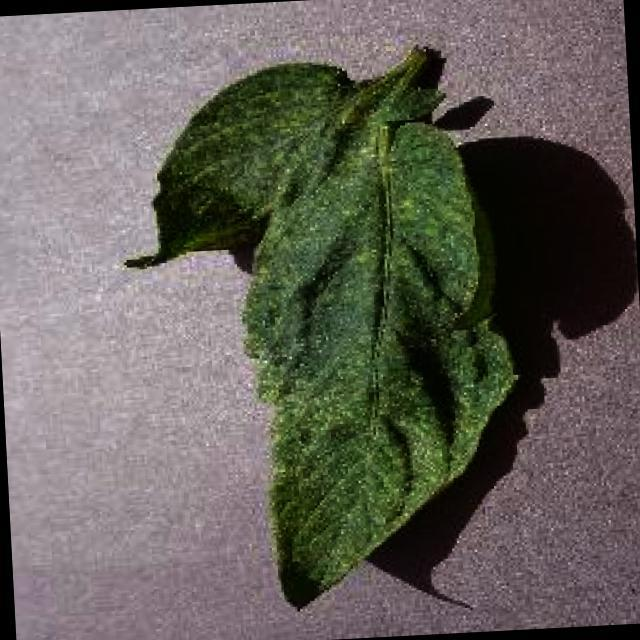Tomato spider mites leaf: (113, 53, 532, 618)
